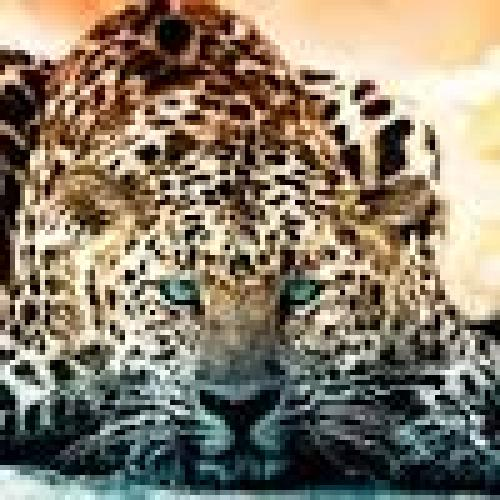jaguar_not-endangered: (46, 15, 430, 470)
